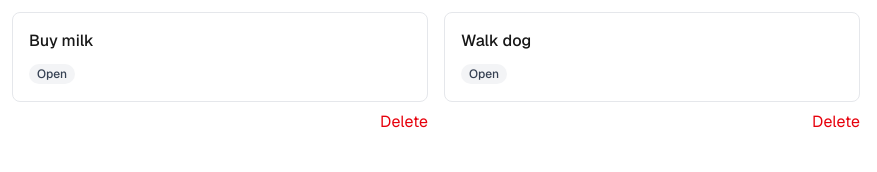
Test: TaskListClient optimistic delete › removes the row immediately then rolls back on failure
Click the button with aria-label "delete task" at (404, 122), box [380,110,428,134]
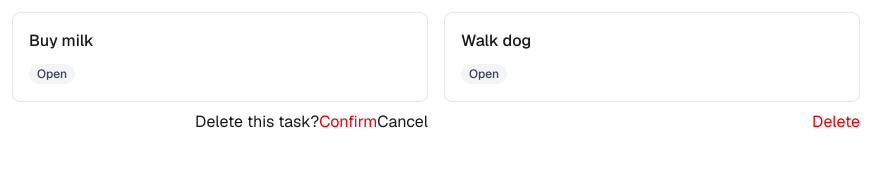
Click the button "Confirm" at (348, 122), box [319,110,377,134]
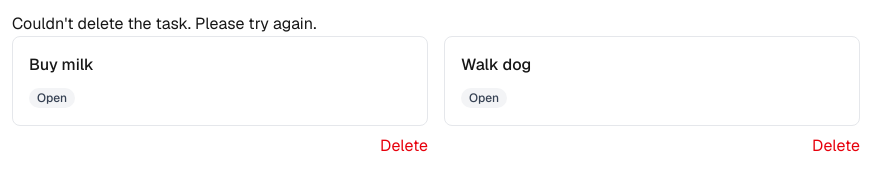
Expected: the text "Walk dog" is shown, [461,54,531,75]
Now the text "Couldn't delete the task. Please try again." is shown, box [12,13,316,34]
